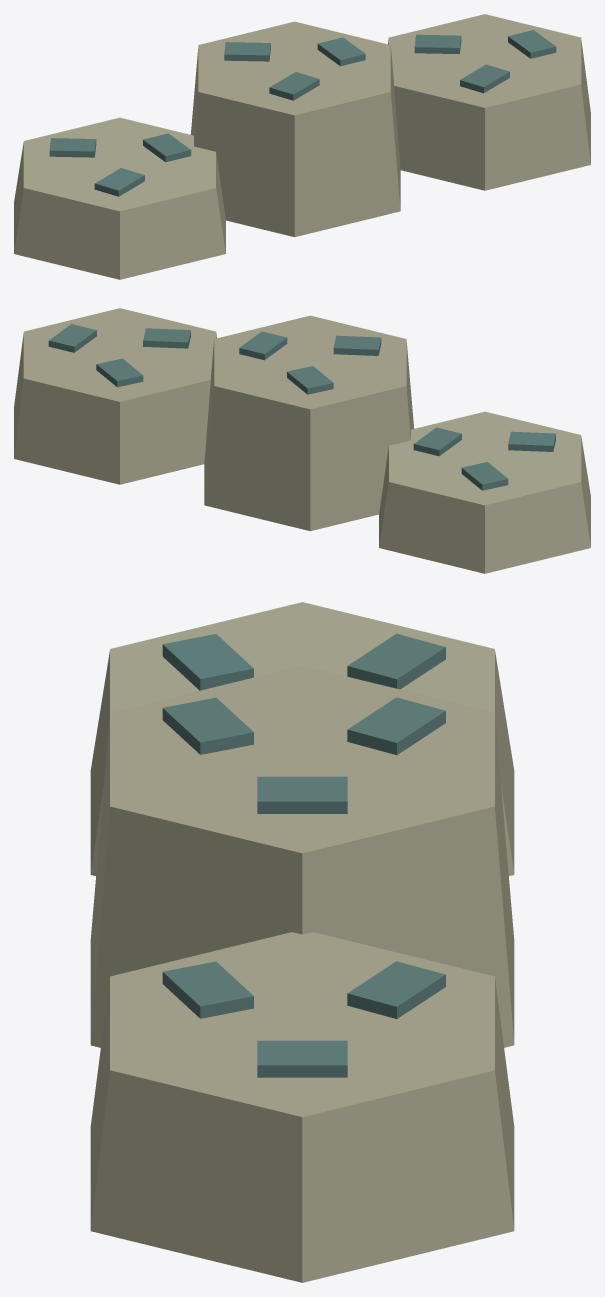
The model's file is map-exclusive-v3__ruins_15.glb.
3 renders of one model, top to bottom at view 1: azimuth 30°, elevation 25°; view 2: azimuth 150°, elevation 25°; view 3: azimuth 270°, elevation 25°, orthographic. The views are drawn at different scales.
Parts seen in each view (by area): view 1: ruins_15; view 2: ruins_15; view 3: ruins_15.
Part boxes in pixels (box(x1,y1,x2,y2)): ruins_15: box(14, 14, 590, 279); ruins_15: box(14, 308, 590, 573); ruins_15: box(90, 602, 514, 1282).
Size of the model in its own units: 2.94 by 0.61 by 0.9353.
